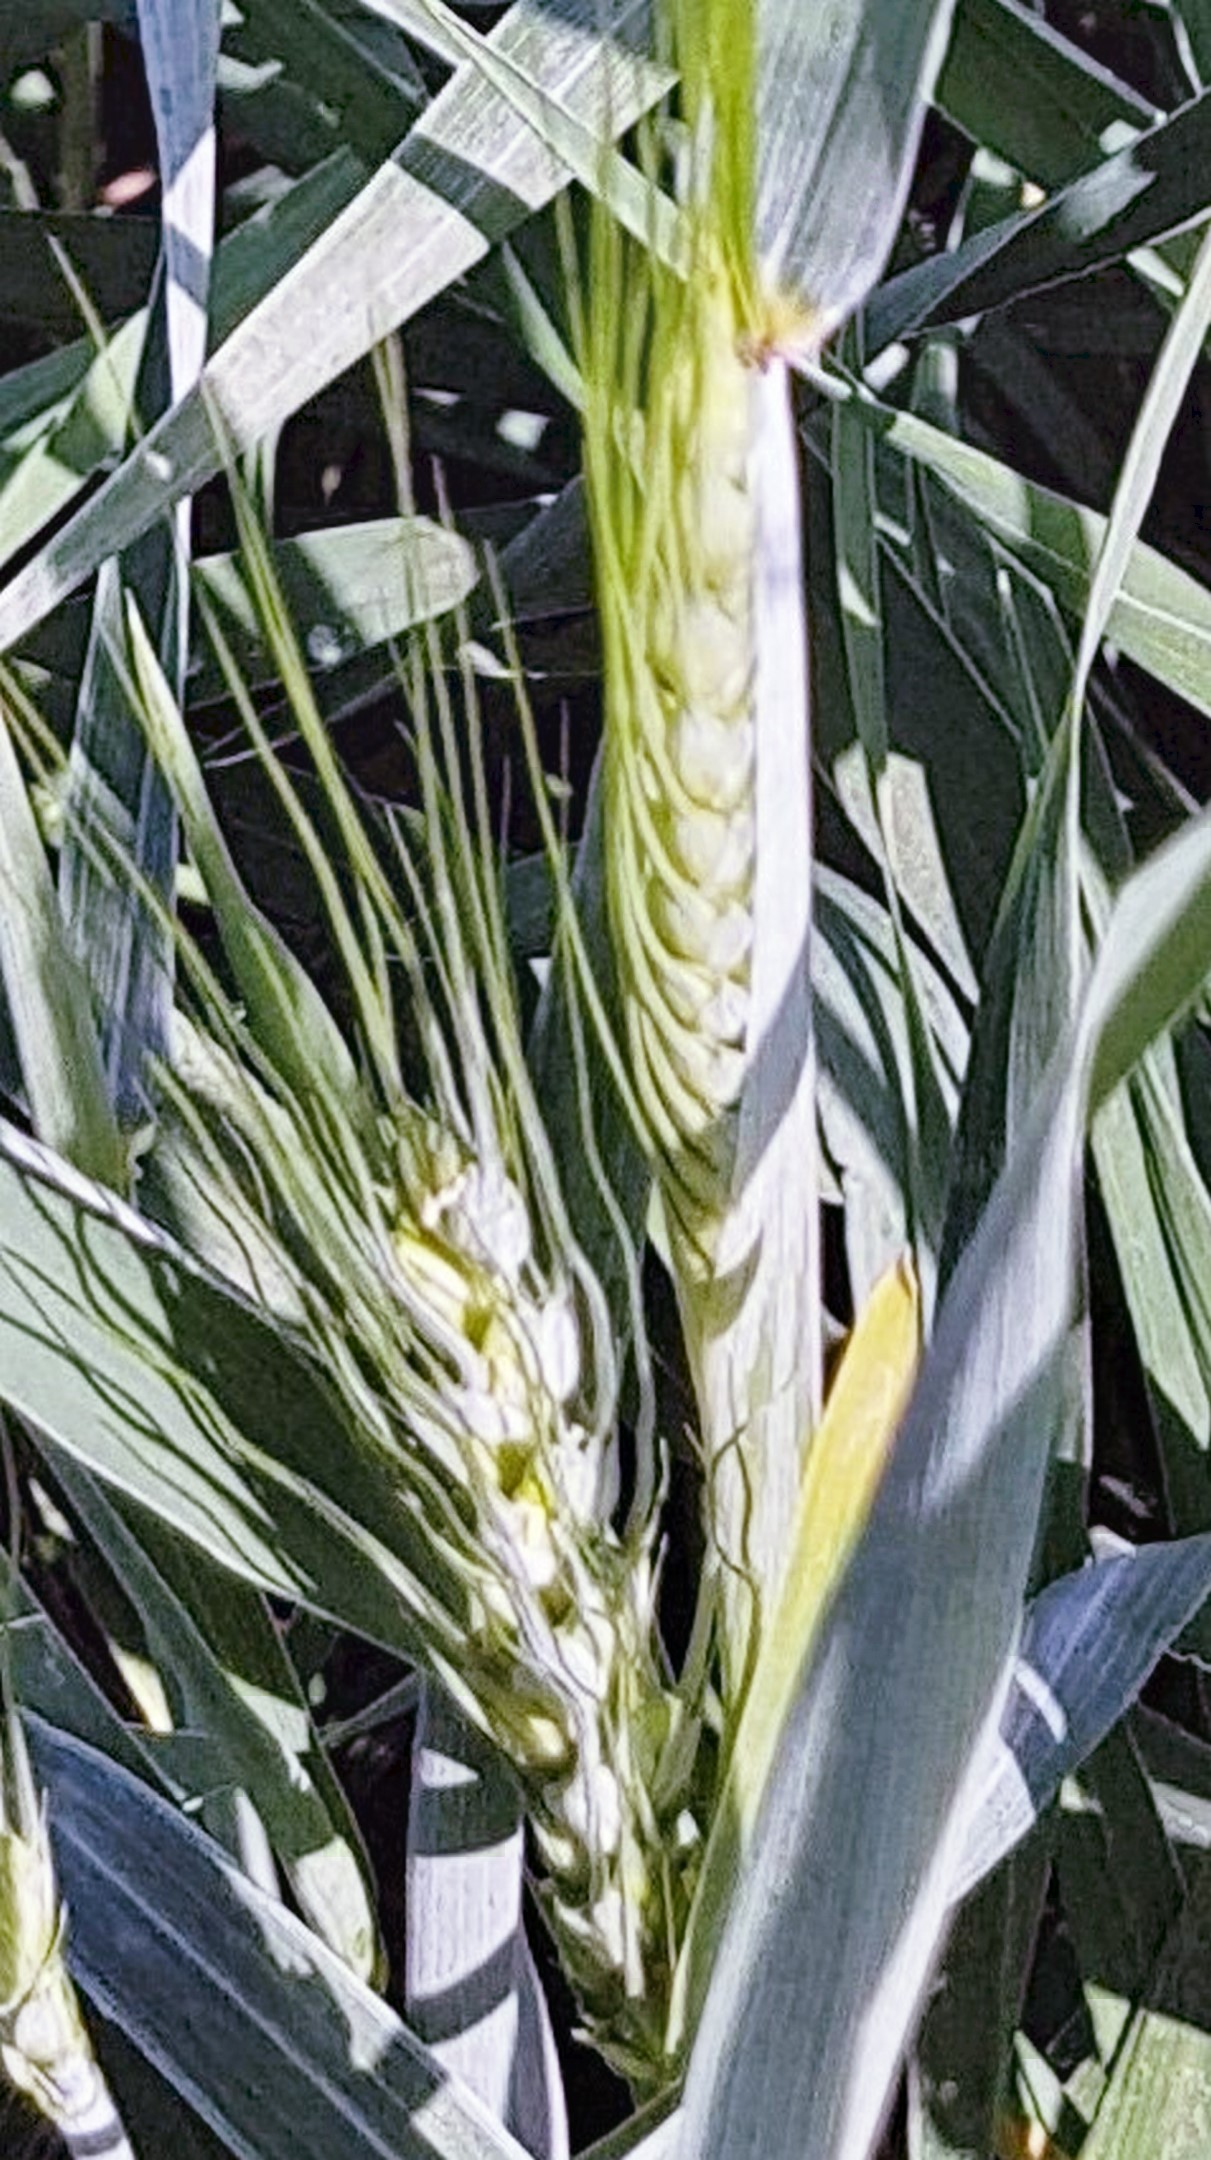Healthy Wheat: (546, 319, 855, 1176)
